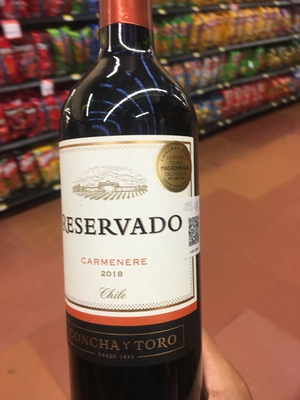reservado carmenere: (61, 22, 208, 400)
